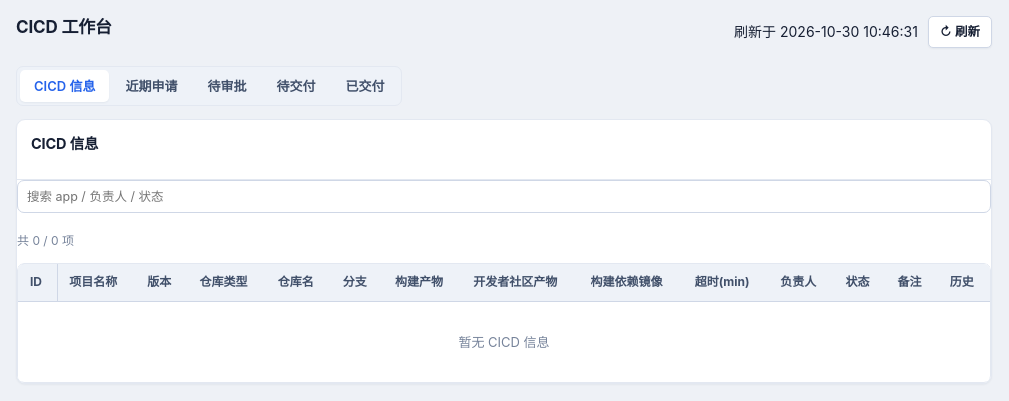
it: CicdPage › renders recent request records as a read-only section
The image size is (1009, 401).
Click the button "近期申请" at (151, 86), box x1=111 y1=70 x2=191 y2=102
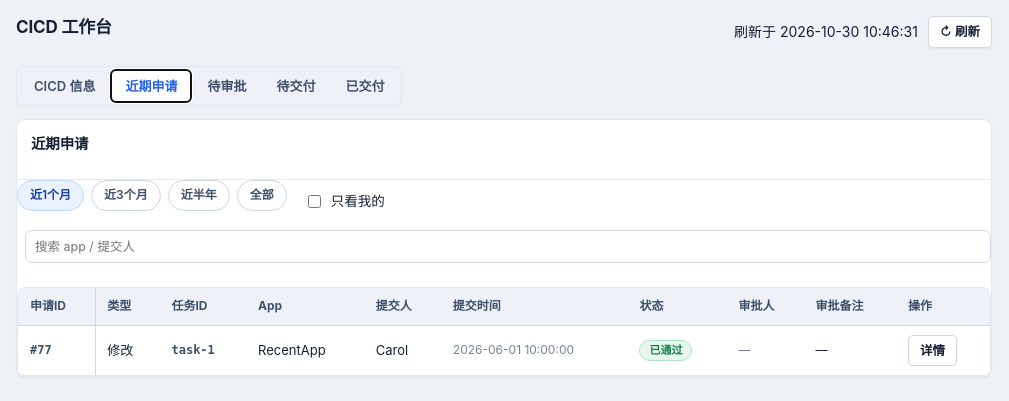
Now the text "RecentApp" is shown, box x1=246 y1=326 x2=364 y2=375
Now the text "Carol" is shown, box x1=364 y1=326 x2=441 y2=375
Now the button "详情" is shown, box x1=908 y1=334 x2=957 y2=366
